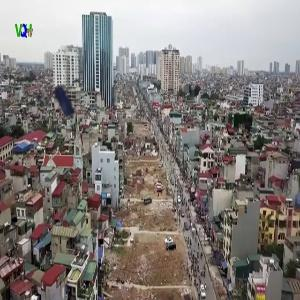drone: (14, 61, 101, 148)
